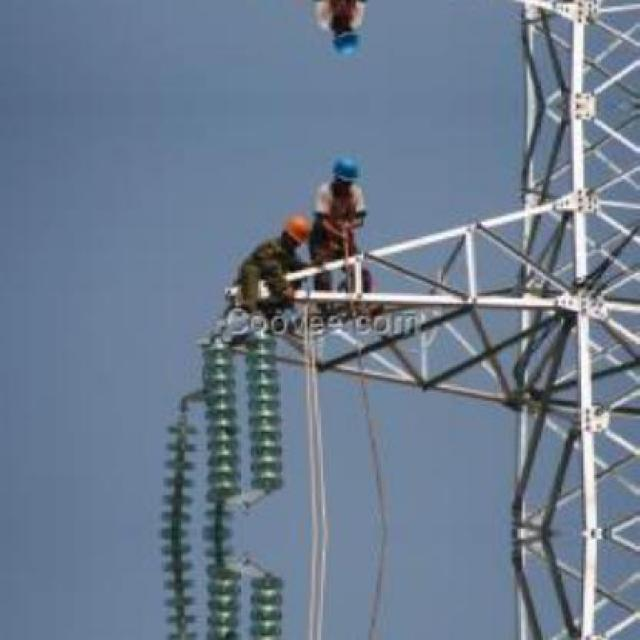helmet: (330, 154, 362, 199), (330, 13, 362, 58), (276, 216, 306, 248)
